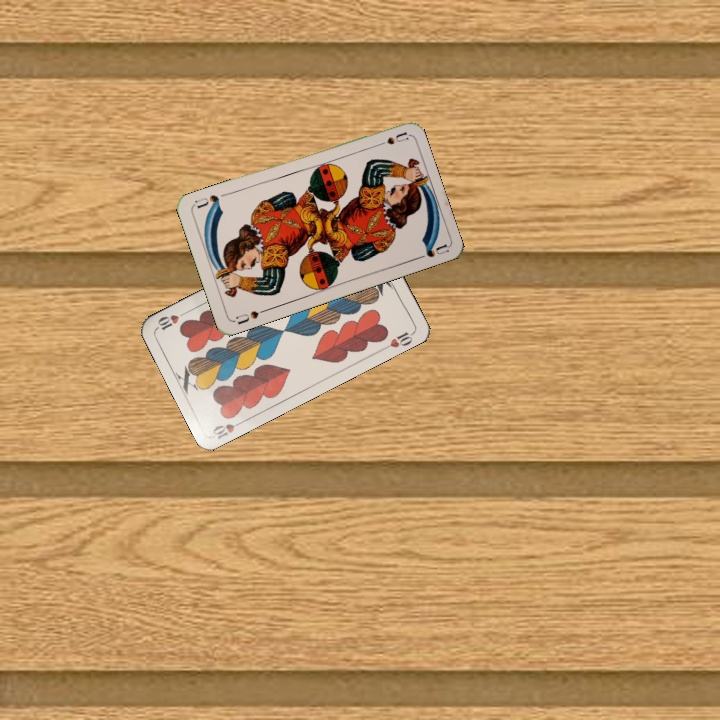H10: (208, 416, 248, 442)
SU: (370, 128, 410, 150), (232, 305, 269, 327)
